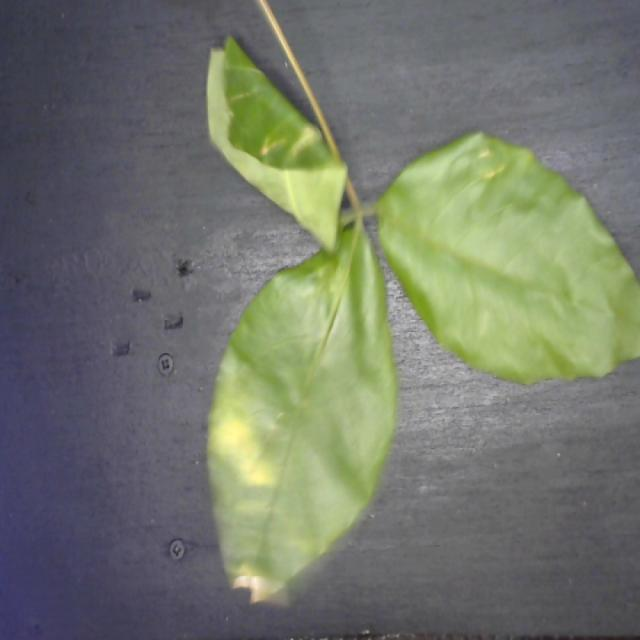biodegradable: (197, 0, 640, 612)
